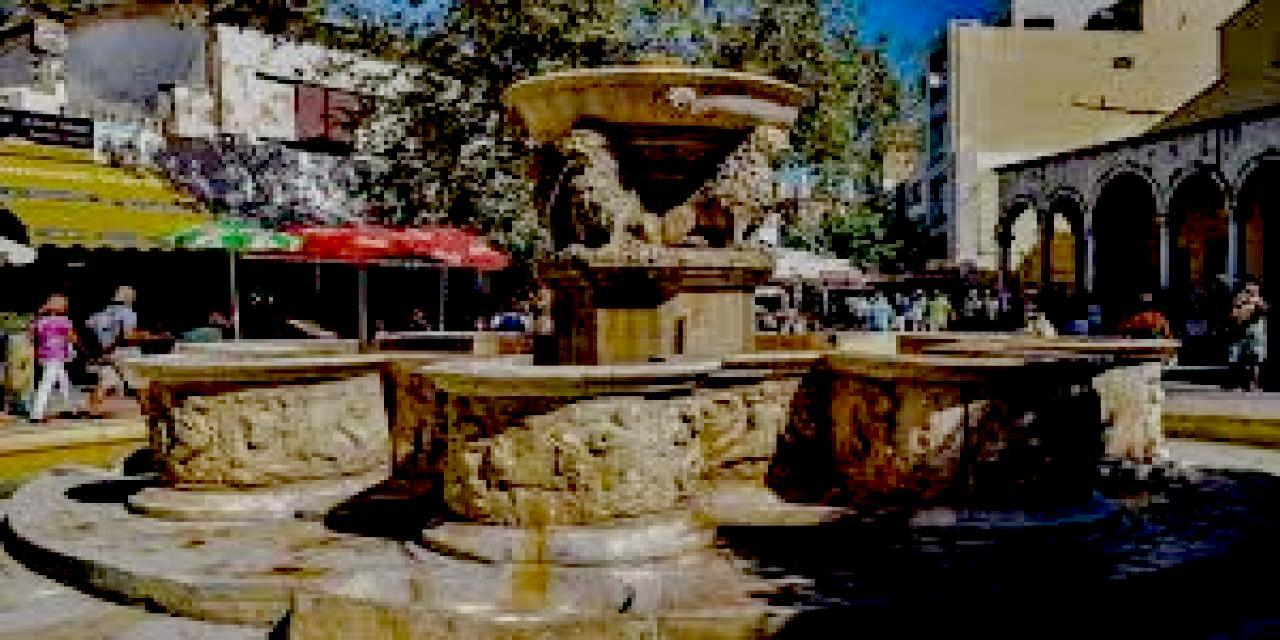Liontaria: (108, 64, 1201, 538)
